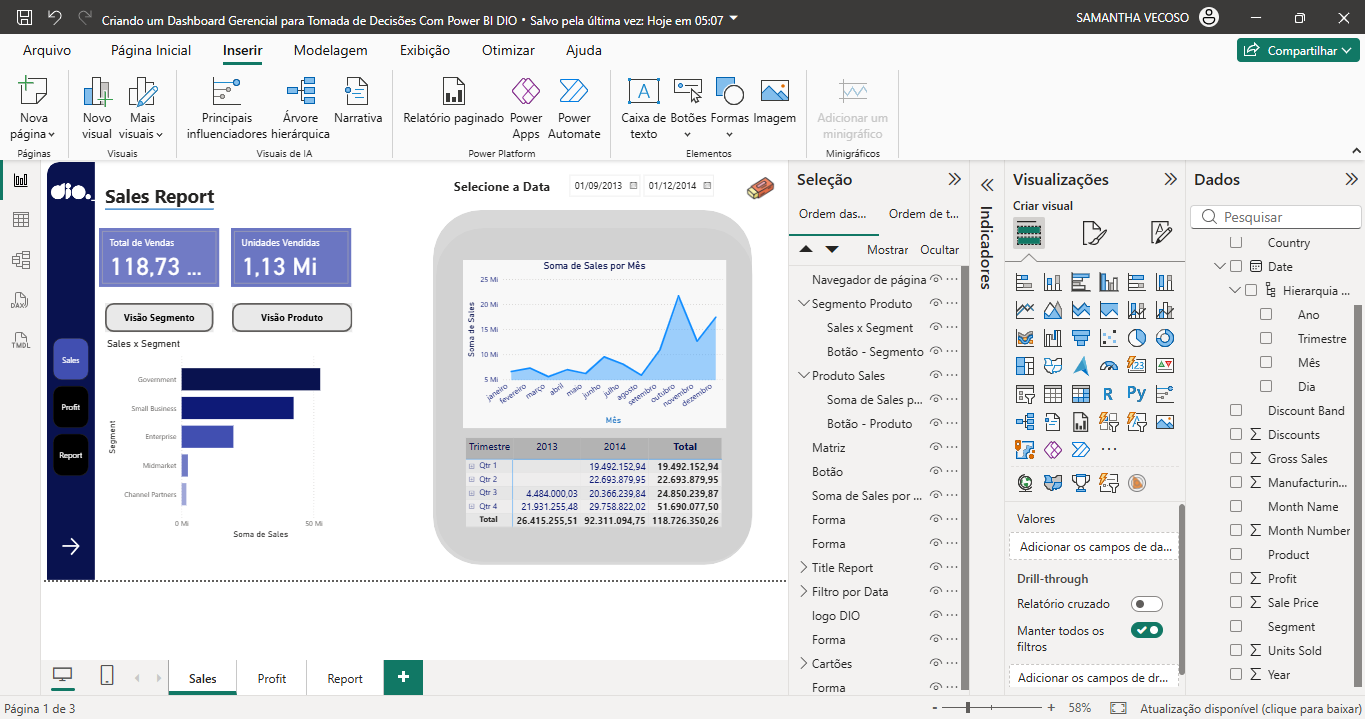

What the dashboard file says about the page in this screenshot:
{"tool":"powerbi","page":{"name":"Sales","canvas":[1280,720],"ordinal":0},"visuals":[{"type":"shape","box":[10.3,3.4,82.2,716.3],"z":0},{"type":"slicer","fields":{"Values":["financials.Date"]},"box":[892.8,16.1,300,62.9],"z":0,"group":"g3"},{"type":"image","title":"Borracha","box":[1202.5,17,60,65.9],"z":0,"group":"g2"},{"type":"textbox","box":[104.8,33.7,237.1,89.3],"z":0,"group":"g4"},{"type":"shape","box":[321,117.1,220,101],"z":0,"group":"g1"},{"type":"actionButton","title":"Botão - Segmento","box":[109.8,245.9,185.9,49.8],"z":0,"group":"g6"},{"type":"shape","box":[109.4,0,185.9,168.3],"z":1000,"group":"g4"},{"type":"textbox","box":[702.4,25.7,191.7,57.1],"z":1000,"group":"g3"},{"type":"actionButton","box":[1190.8,30.2,82,38],"z":1000,"group":"g2"},{"type":"group","id":"g1","title":"Cartões","box":[99.5,117.1,442,101],"z":1000},{"type":"shape","box":[102.4,117.1,205.2,101],"z":1000,"group":"g1"},{"type":"actionButton","title":"Botão - Produto","box":[328.1,245,206.3,49.8],"z":1000,"group":"g5"},{"type":"clusteredBarChart","title":"Sales x Segment","fields":{"Category":["financials.Segment"],"Y":["Sum(financials. Sales)"]},"box":[108.3,305.9,424.4,349.8],"z":1000,"group":"g6"},{"type":"group","id":"g2","title":"Borracha-Botão","box":[1190.8,17,82,65.9],"z":2000,"group":"g3"},{"type":"cardVisual","fields":{"Data":["Sum(financials. Sales)"]},"box":[99.5,117.1,206.3,101],"z":2000,"group":"g1"},{"type":"clusteredBarChart","fields":{"Category":["financials.Product"],"Y":["Sum(financials. Sales)"]},"box":[109.7,304.2,423.2,349.6],"z":2000,"group":"g5"},{"type":"shape","box":[102.4,440.5,377.6,203.4],"z":2000},{"type":"image","title":"logo DIO","box":[10.2,16.1,92.2,77.6],"z":3000},{"type":"cardVisual","fields":{"Data":["Sum(financials.Units Sold)"]},"box":[326.3,117.1,206.3,101],"z":3000,"group":"g1"},{"type":"group","id":"g3","title":"Filtro por Data","box":[702.4,16.1,570.7,67.3],"z":4000},{"type":"group","id":"g4","title":"Title Report","box":[104.8,0,237.1,168.3],"z":5000},{"type":"shape","box":[676.1,117.1,543.2,572.3],"z":6000},{"type":"shape","box":[671.7,84.9,546.6,608.3],"z":7000},{"type":"areaChart","fields":{"Category":["financials.Date.Variation.Hierarquia de datas.Mês"],"Y":["Sum(financials. Sales)"]},"box":[722.9,171.2,450.7,287.9],"z":8000},{"type":"actionButton","box":[30.8,642.6,39.5,39.5],"z":9000},{"type":"pivotTable","fields":{"Columns":["financials.Date.Variation.Hierarquia de datas.Ano"],"Rows":["financials.Date.Variation.Hierarquia de datas.Trimestre","financials.Date.Variation.Hierarquia de datas.Mês"],"Values":["Sum(financials. Sales)"]},"box":[723.1,471.2,454.1,191.9],"z":10000},{"type":"group","id":"g5","title":"Produto Sales","box":[109.7,245,425,407.8],"z":11000},{"type":"group","id":"g6","title":"Segmento Produto","box":[108.3,245.9,424.4,409.8],"z":12000},{"type":"pageNavigator","box":[20.5,305.9,61.7,236.5],"z":13000}]}

Visuals, with their boxes on the page's 1280x720 design canvas (x1, y1, x2, y2). These are canvas units, not pixel positions in the 1365x719 screenshot, which may show the page scaled, cropped or inside an application window:
shape: [10, 3, 92, 720]
slicer - financials.Date: [893, 16, 1193, 79]
"Borracha" image: [1202, 17, 1262, 83]
textbox: [105, 34, 342, 123]
shape: [321, 117, 541, 218]
"Botão - Segmento" actionButton: [110, 246, 296, 296]
shape: [109, 0, 295, 168]
textbox: [702, 26, 894, 83]
actionButton: [1191, 30, 1273, 68]
"Cartões" group: [100, 117, 542, 218]
shape: [102, 117, 308, 218]
"Botão - Produto" actionButton: [328, 245, 534, 295]
"Sales x Segment" clusteredBarChart: [108, 306, 533, 656]
"Borracha-Botão" group: [1191, 17, 1273, 83]
cardVisual - Sum(financials. Sales): [100, 117, 306, 218]
clusteredBarChart - financials.Product x Sum(financials. Sales): [110, 304, 533, 654]
shape: [102, 440, 480, 644]
"logo DIO" image: [10, 16, 102, 94]
cardVisual - Sum(financials.Units Sold): [326, 117, 533, 218]
"Filtro por Data" group: [702, 16, 1273, 83]
"Title Report" group: [105, 0, 342, 168]
shape: [676, 117, 1219, 689]
shape: [672, 85, 1218, 693]
areaChart - financials.Date.Variation.Hierarquia de datas.Mês x Sum(financials. Sales): [723, 171, 1174, 459]
actionButton: [31, 643, 70, 682]
pivotTable - financials.Date.Variation.Hierarquia de datas.Ano x financials.Date.Variation.Hierarquia de datas.Trimestre: [723, 471, 1177, 663]
"Produto Sales" group: [110, 245, 535, 653]
"Segmento Produto" group: [108, 246, 533, 656]
pageNavigator: [20, 306, 82, 542]
